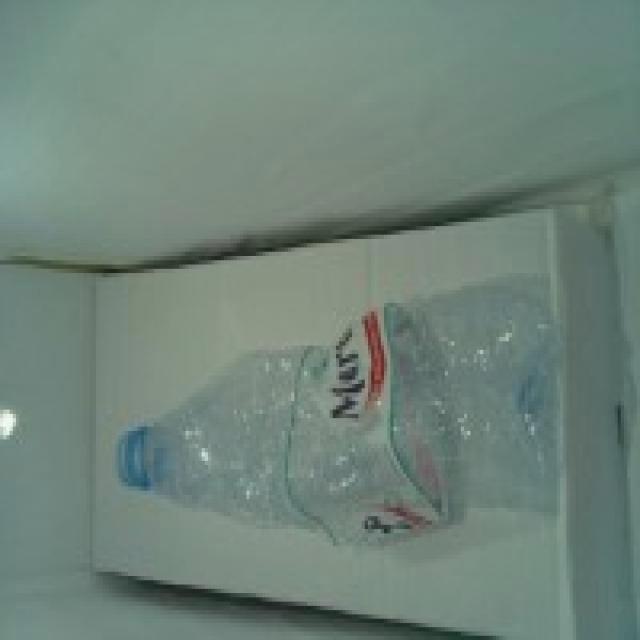bottle: (114, 289, 559, 546)
